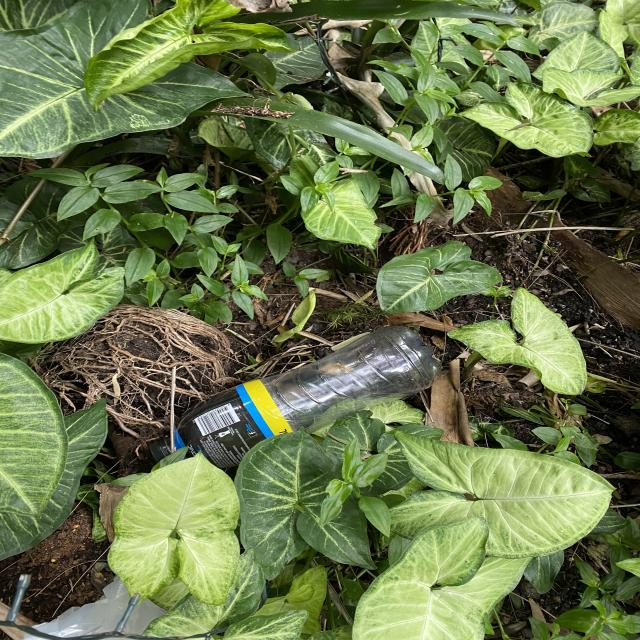bottle: (148, 324, 441, 472)
